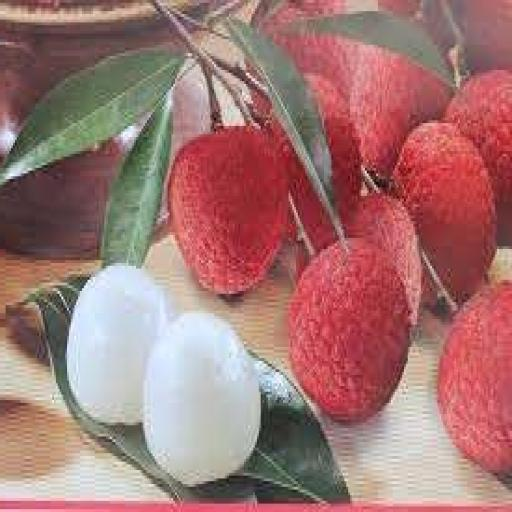lychee: (288, 238, 408, 422), (143, 314, 259, 486), (167, 126, 285, 293), (392, 124, 494, 302), (65, 263, 174, 425), (437, 283, 511, 475), (350, 45, 449, 176), (444, 70, 511, 246), (346, 194, 421, 324), (260, 0, 356, 97), (305, 76, 360, 223), (444, 0, 511, 72), (458, 0, 511, 69), (377, 0, 419, 16)
